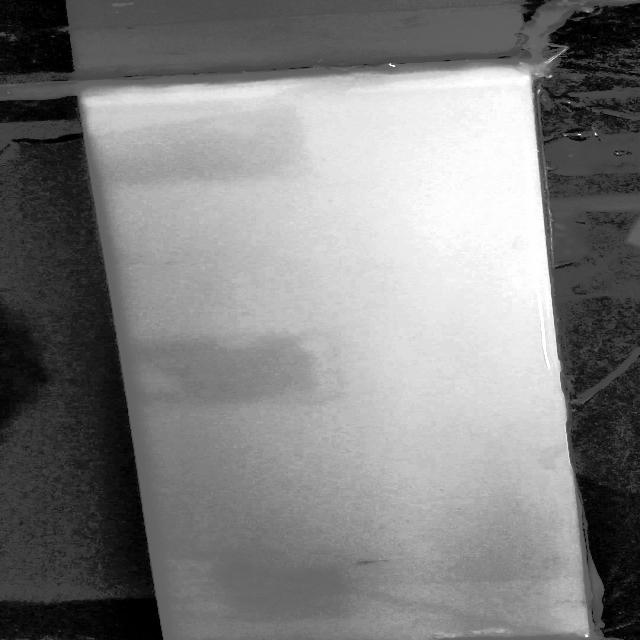shrimp: (350, 557, 386, 570)
